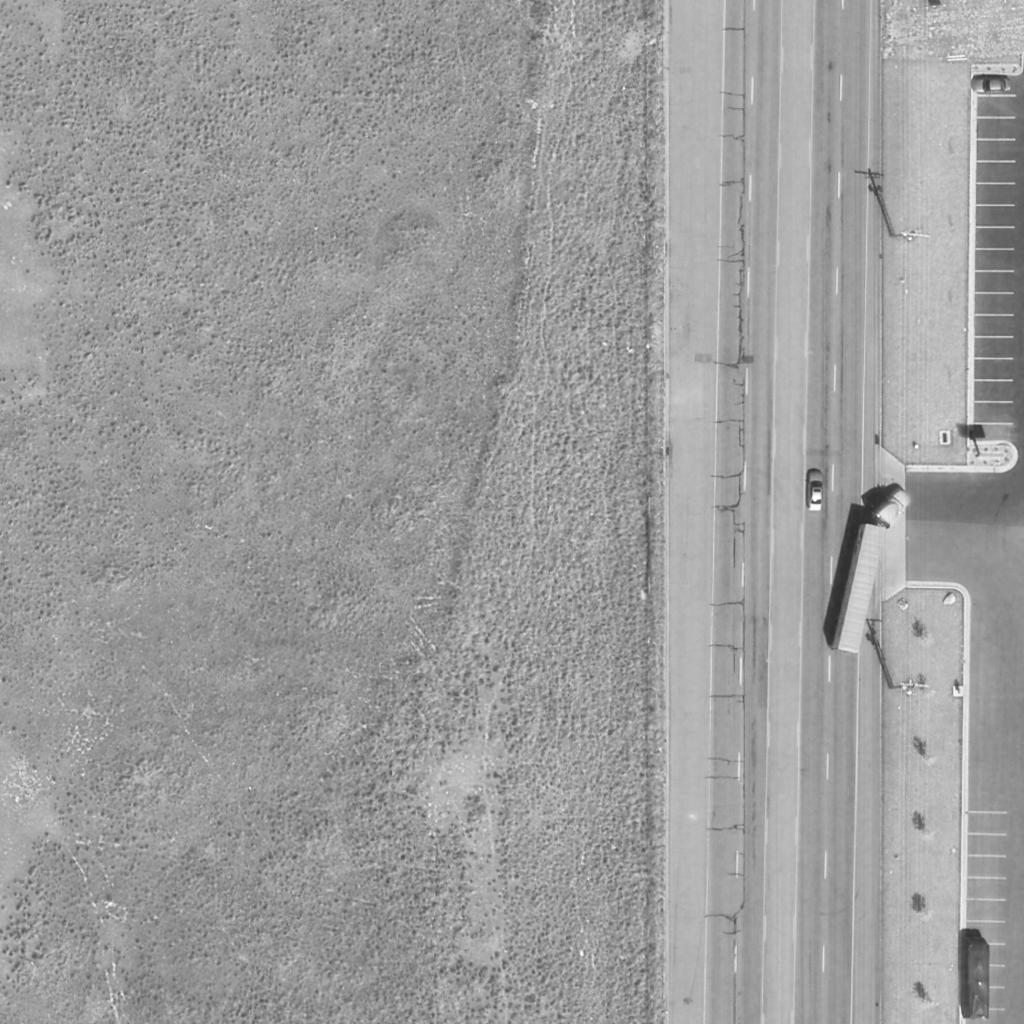vehicle: (830, 483, 916, 659), (808, 469, 826, 509), (970, 78, 1014, 92)
